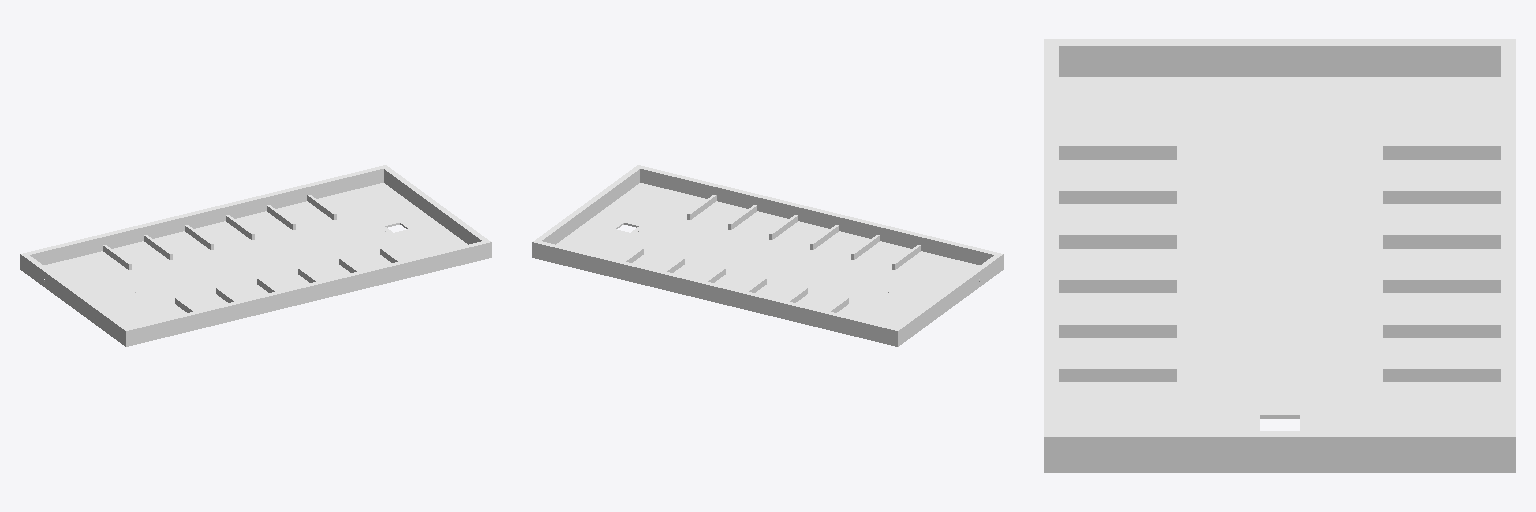
robot.urdf — ArenaLayout.urdf:
<?xml version="1.0" ?>
<robot name="ArenaLayout.urdf">
  <link name="baseLink">
    <contact>
      <lateral_friction value="1.0"/>
      <rolling_friction value="0.0"/>
      <contact_cfm value="0.0"/>
      <contact_erp value="1.0"/>
    </contact>

    <visual>
      <origin rpy="0 0 0" xyz="0 0 0"/>
      <geometry>
				<mesh filename="ArenaLayout.obj" scale="0.003 0.003 0.003"/>
      </geometry>
      <material name="white">
        <color rgba="1 1 1 1"/>
      </material>
    </visual>

    <collision> <!-- ground -->
      <origin rpy="0 0 0" xyz="0 0 0"/>
      <geometry>
	 	    <box size="7 3.3 0.1"/>
      </geometry>
    </collision>
    <collision> <!-- wall positive x -->
      <origin rpy="0 0 0" xyz="3.55 0 0.2"/>
      <geometry>
	 	    <box size="0.1 3.3 0.4"/>
      </geometry>
    </collision>
    <collision> <!-- wall negative x -->
      <origin rpy="0 0 0" xyz="-3.55 0 0.2"/>
      <geometry>
	 	    <box size="0.1 3.3 0.4"/>
      </geometry>
    </collision>
    <collision> <!-- wall positive y -->
      <origin rpy="0 0 0" xyz="0 1.7 0.2"/>
      <geometry>
	 	    <box size="7 0.1 0.4"/>
      </geometry>
    </collision>
    <collision> <!-- wall negative y -->
      <origin rpy="0 0 0" xyz="0 -1.7 0.2"/>
      <geometry>
	 	    <box size="7 0.1 0.4"/>
      </geometry>
    </collision>
  </link>
</robot>

--- Facts derived from the render (not from the file) ---
Views: 3 orthographic renders of the robot side by side, from view 1: azimuth 30°, elevation 25°; view 2: azimuth 150°, elevation 25°; view 3: azimuth 270°, elevation 25°.
Model ArenaLayout.urdf with 1 links and 0 joints (none), rooted at baseLink, posed every joint at zero.
Links seen in each view (by area): view 1: baseLink; view 2: baseLink; view 3: baseLink.
Boxes of the visible links, bbox=[...] form: baseLink: bbox=[20, 165, 491, 346]; baseLink: bbox=[532, 165, 1003, 346]; baseLink: bbox=[1044, 39, 1515, 472].
Bounding box of the posed robot: 7.32 × 3.66 × 0.3024 m (x, y, z).
Meshes: 1 distinct files referenced, 1 mesh visuals loaded (1 OBJ).